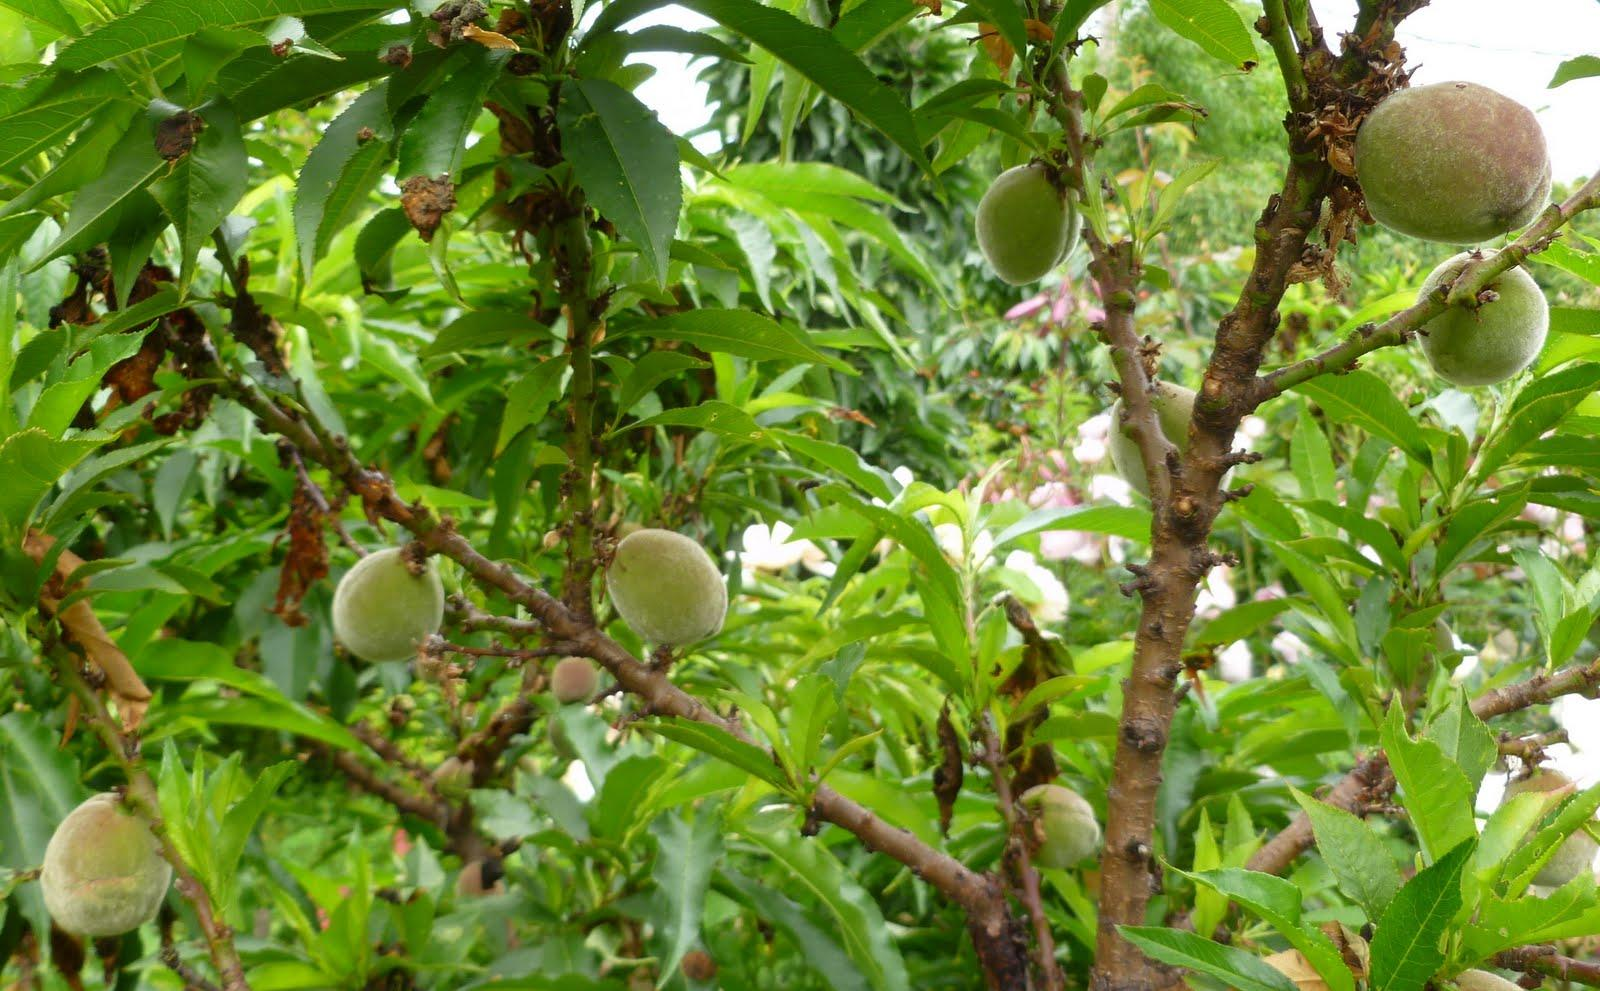Peach leaf: (709, 1, 937, 185), (565, 74, 683, 290), (1162, 861, 1351, 991), (1381, 688, 1485, 895), (1360, 840, 1480, 991), (643, 796, 727, 991), (1109, 921, 1288, 991), (613, 313, 862, 360)
